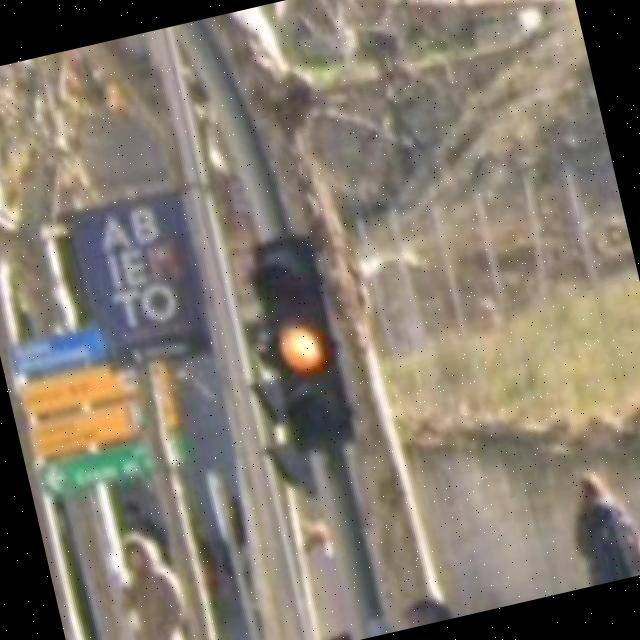yellow_light: (248, 235, 354, 448)
